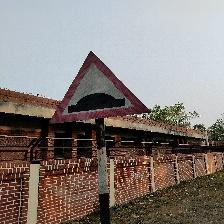Speed-breaker: (49, 50, 151, 123)
